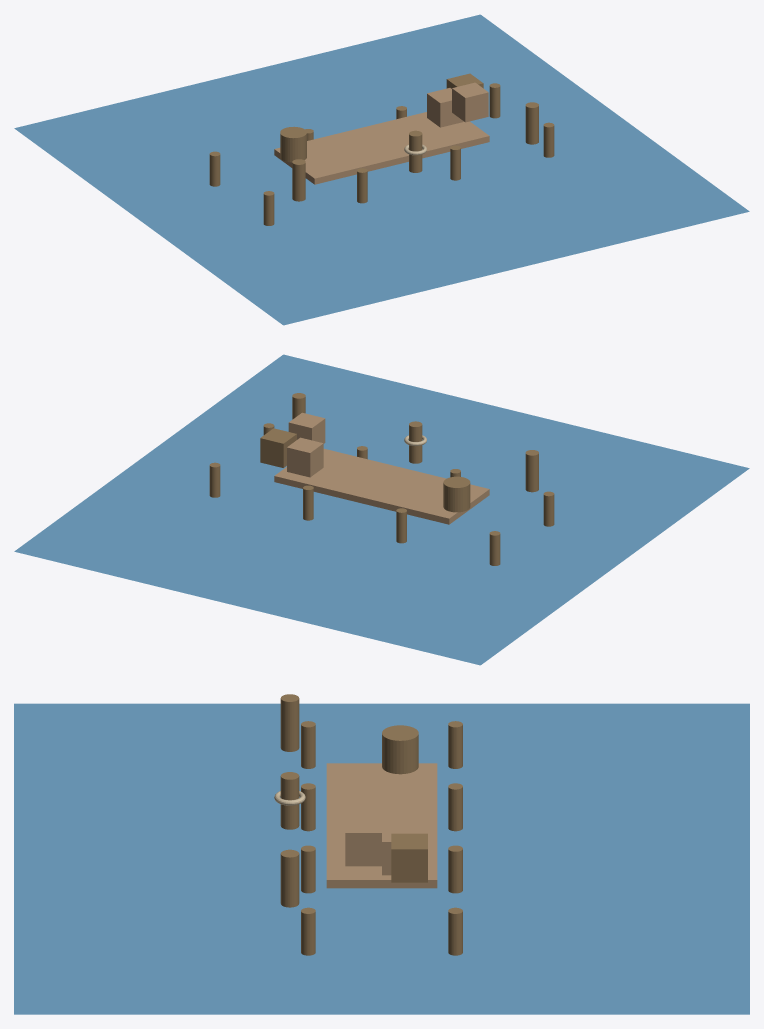
File: harbor_dock.glb
The picture shows the model from 3 angles, top to bottom: view 1: azimuth 30°, elevation 25°; view 2: azimuth 150°, elevation 25°; view 3: azimuth 270°, elevation 25°; orthographic projection. The views are drawn at different scales.
Visible parts, largest first — view 1: Plane, Cube, Cube.003, Cube.001, Cylinder.011, Cylinder.008, Cylinder.010, Cylinder.009; view 2: Plane, Cube, Cube.001, Cube.002, Cylinder.011, Cube.003, Cylinder.008, Cylinder.009; view 3: Plane, Cube, Cube.002, Cube.003, Cylinder.011, Cylinder.010, Cylinder.008, Cylinder.009, Cube.001, Cylinder.004, Cylinder.005, Cylinder.003 (+5 smaller).
Boxes of the visible parts, left/top/right/bottom form: Plane: left=14, top=14, right=749, bottom=325; Cube: left=274, top=112, right=489, bottom=184; Cube.003: left=452, top=82, right=488, bottom=122; Cube.001: left=427, top=88, right=463, bottom=127; Cylinder.011: left=280, top=126, right=306, bottom=162; Cylinder.008: left=292, top=159, right=305, bottom=201; Cylinder.010: left=525, top=102, right=538, bottom=144; Cylinder.009: left=409, top=130, right=422, bottom=172; Plane: left=14, top=354, right=749, bottom=665; Cube: left=274, top=448, right=489, bottom=524; Cube.001: left=287, top=437, right=323, bottom=477; Cube.002: left=260, top=428, right=296, bottom=467; Cylinder.011: left=443, top=476, right=470, bottom=512; Cube.003: left=288, top=412, right=325, bottom=443; Cylinder.008: left=525, top=450, right=538, bottom=492; Cylinder.009: left=409, top=421, right=422, bottom=463; Plane: left=14, top=703, right=749, bottom=1014; Cube: left=326, top=763, right=437, bottom=888; Cube.002: left=391, top=833, right=427, bottom=882; Cube.003: left=345, top=817, right=381, bottom=866; Cylinder.011: left=382, top=725, right=418, bottom=774; Cylinder.010: left=280, top=849, right=299, bottom=907; Cylinder.008: left=280, top=694, right=299, bottom=751; Cylinder.009: left=280, top=772, right=299, bottom=829; Cube.001: left=382, top=826, right=418, bottom=875; Cylinder.004: left=301, top=845, right=315, bottom=893; Cylinder.005: left=448, top=845, right=462, bottom=893; Cylinder.003: left=448, top=783, right=462, bottom=831.
Bounding box in the file's own units: 4 × 0.68 × 4.
